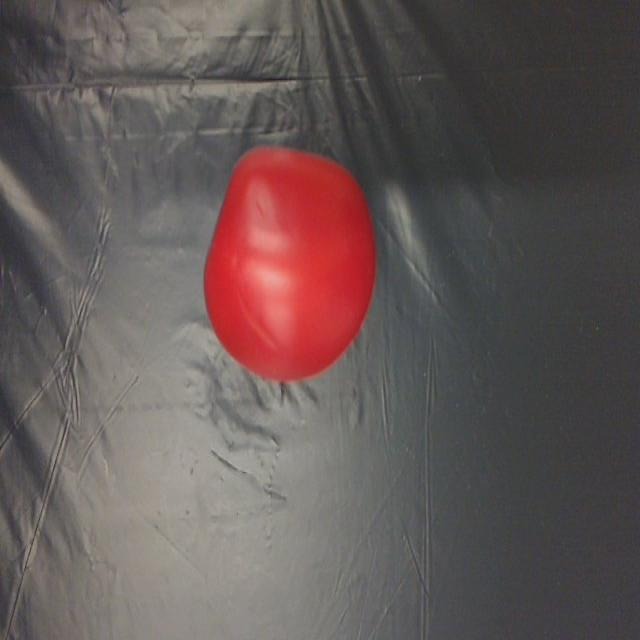kirmizi: (186, 103, 420, 398)
